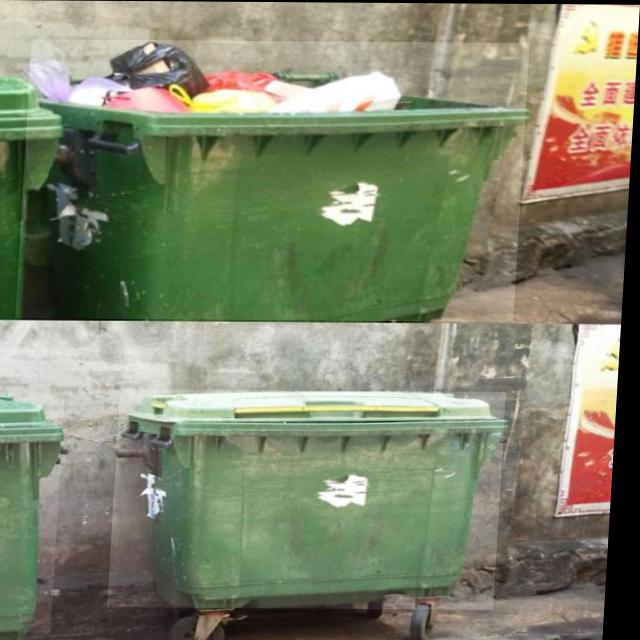garbage_bin: (115, 389, 511, 610), (0, 392, 70, 633)
overflow: (20, 39, 531, 321)
